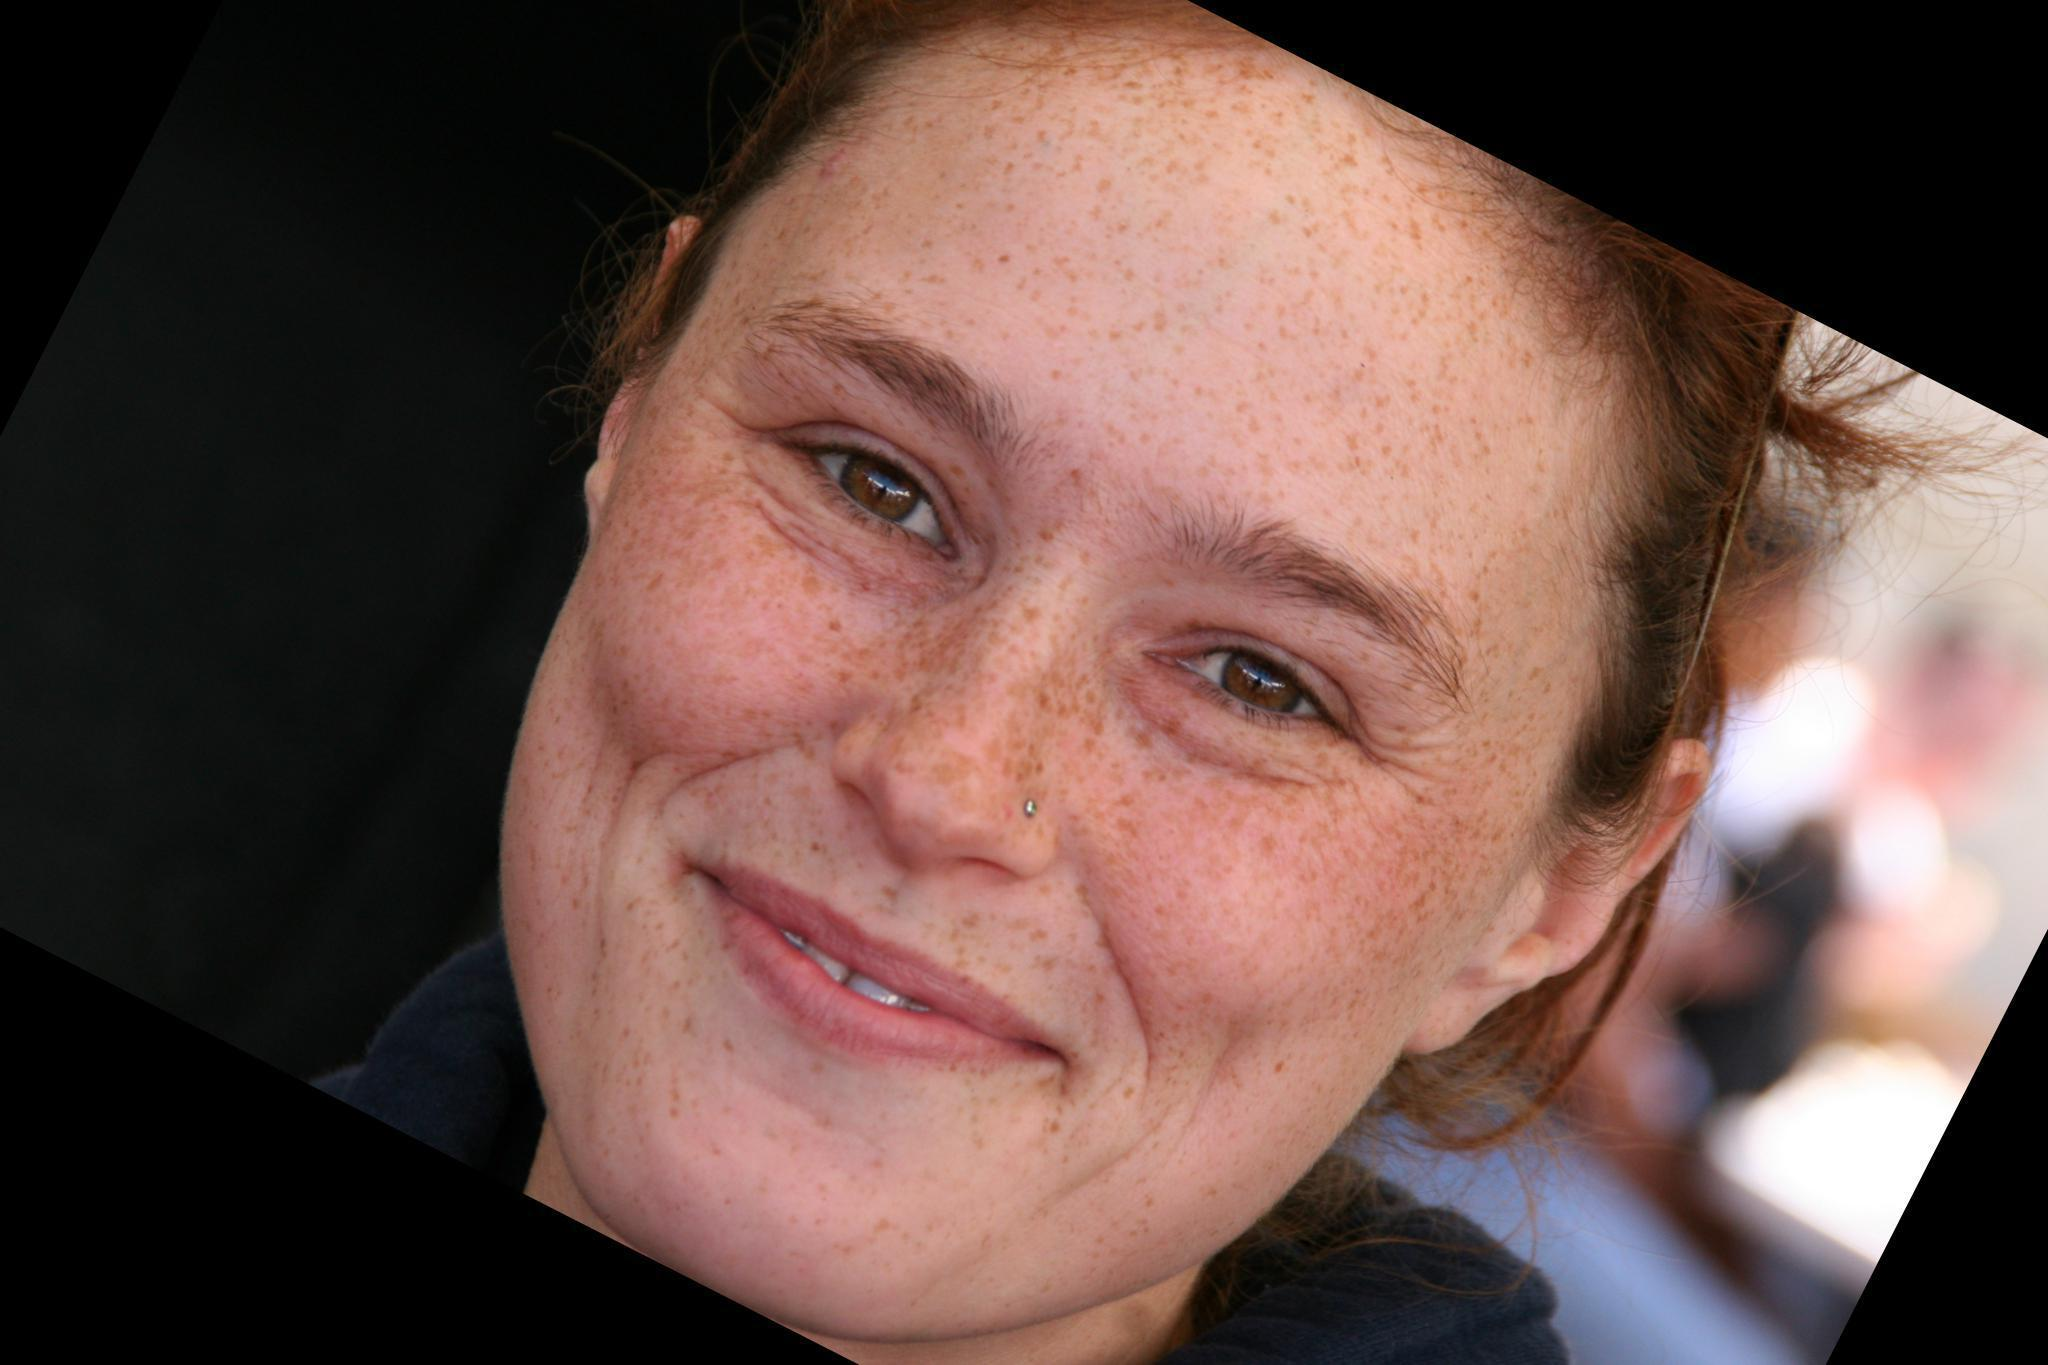Sober: (630, 107, 1491, 1264)
